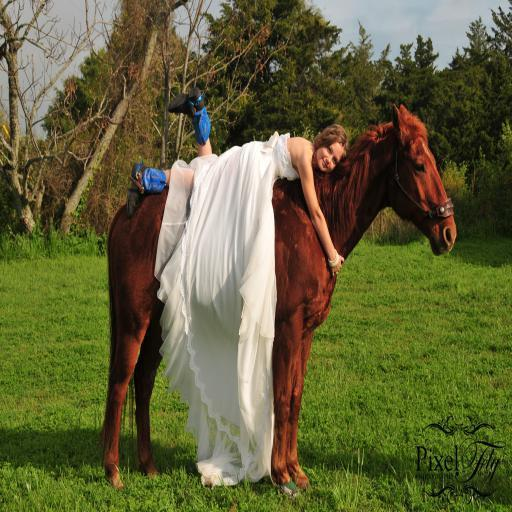horse: (97, 102, 458, 501)
